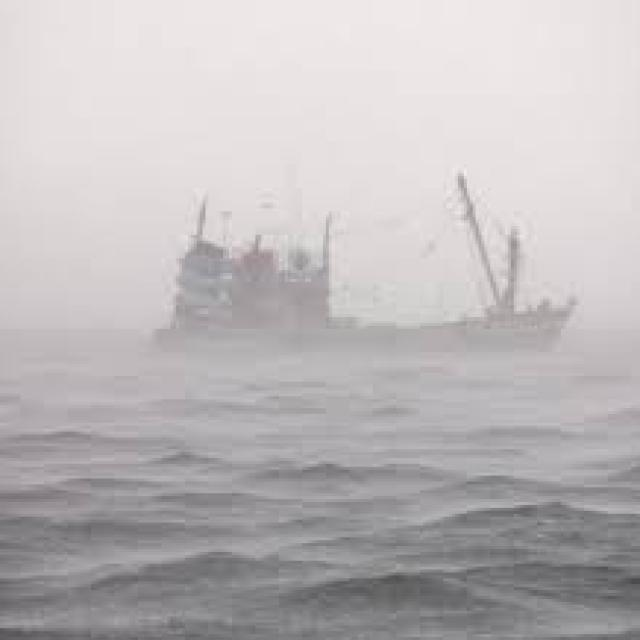fishing boat: (162, 165, 569, 356)
